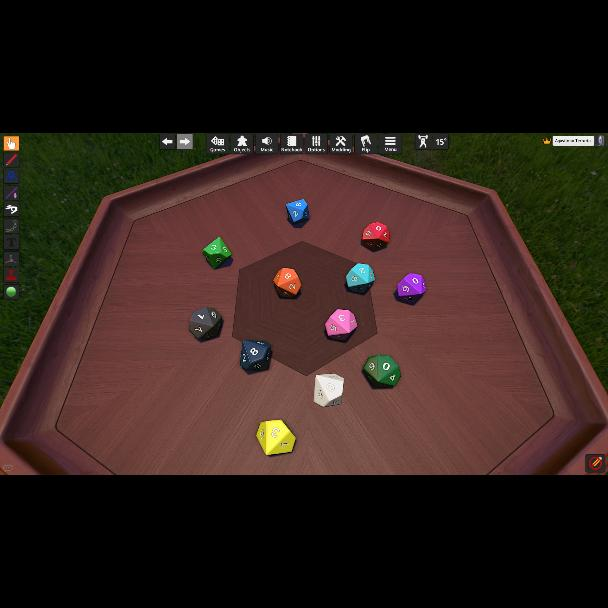d10: (256, 418, 296, 456), (363, 355, 400, 387), (190, 306, 222, 340), (202, 238, 232, 270), (240, 340, 270, 372), (396, 273, 426, 303), (325, 310, 355, 340), (274, 266, 302, 298), (314, 374, 342, 406), (362, 221, 390, 250), (346, 264, 373, 292), (284, 200, 308, 224)
